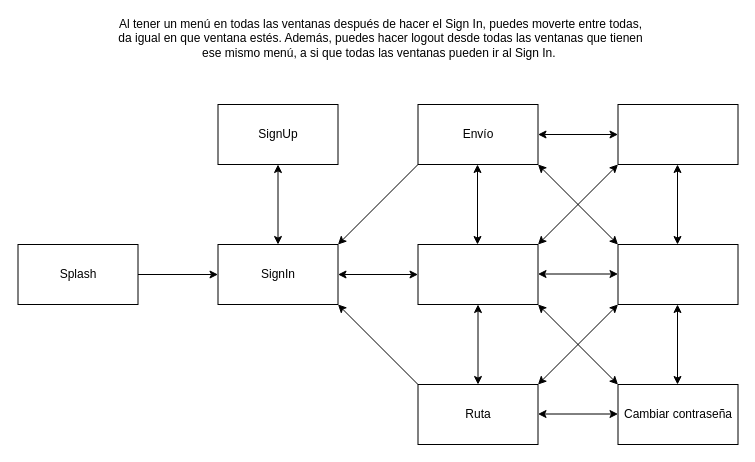
This 755x462 diagram has some shape labels left out. Each missing label, with the centre of its shape:
"Paquete" goes at pixel 477 274.
"Perfil" goes at pixel 677 134.
"Vehículos" goes at pixel 677 274.
